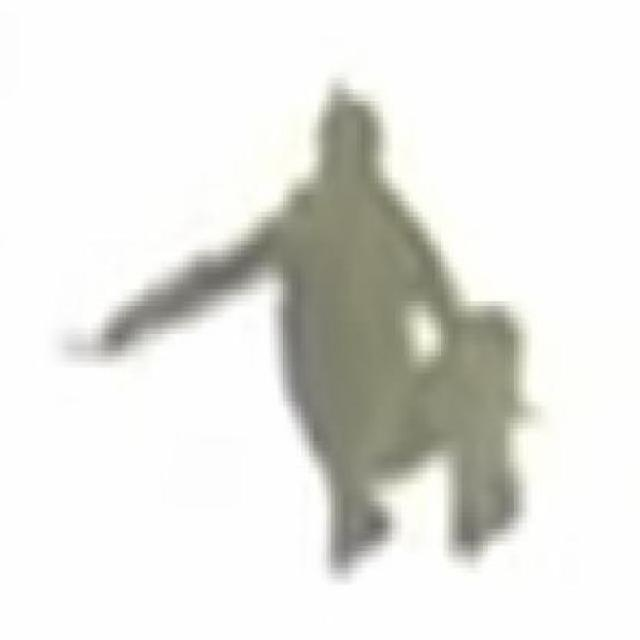fall: (80, 75, 528, 567)
